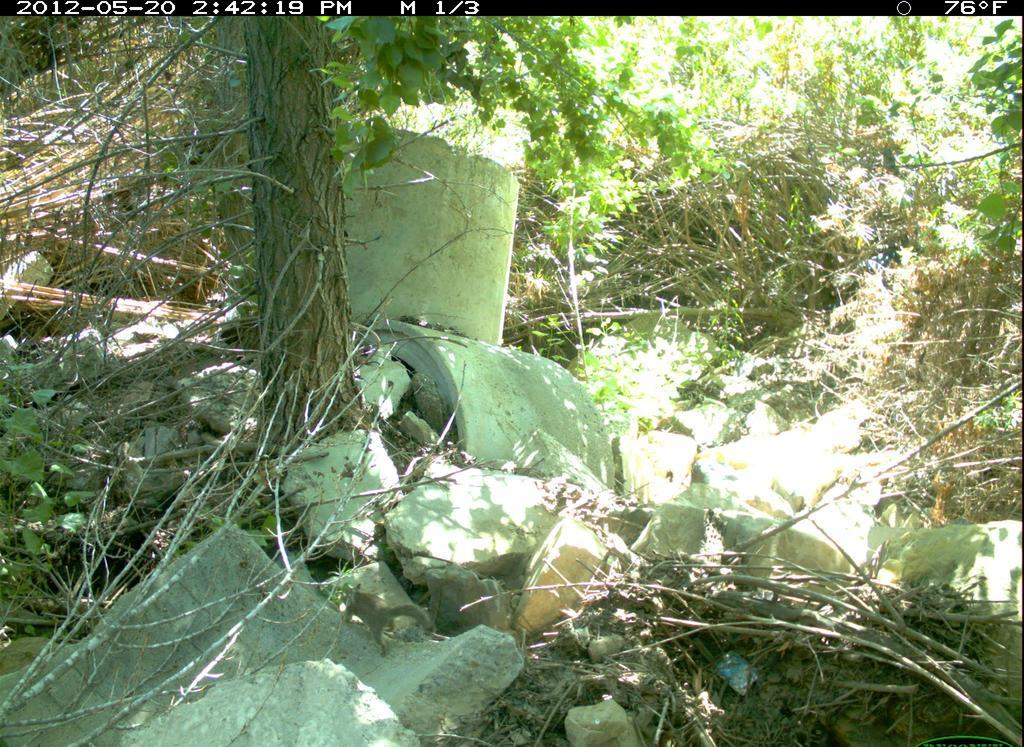squirrel: (337, 577, 452, 673)
